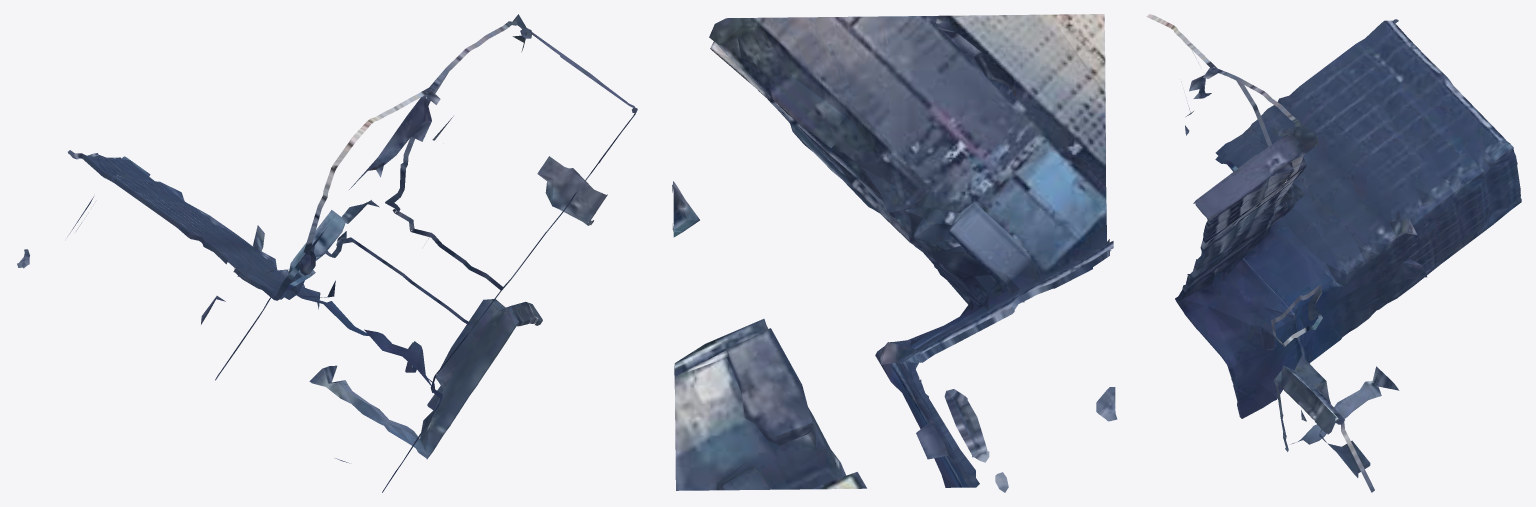
The picture shows the model from 3 angles, left to right: view 1: azimuth 30°, elevation 25°; view 2: azimuth 150°, elevation 25°; view 3: azimuth 270°, elevation 25°; orthographic projection. The views are drawn at different scales.
Bounding box in the file's own units: 51.6 × 40.9 × 37.31.
2 materials, 2 textured.
